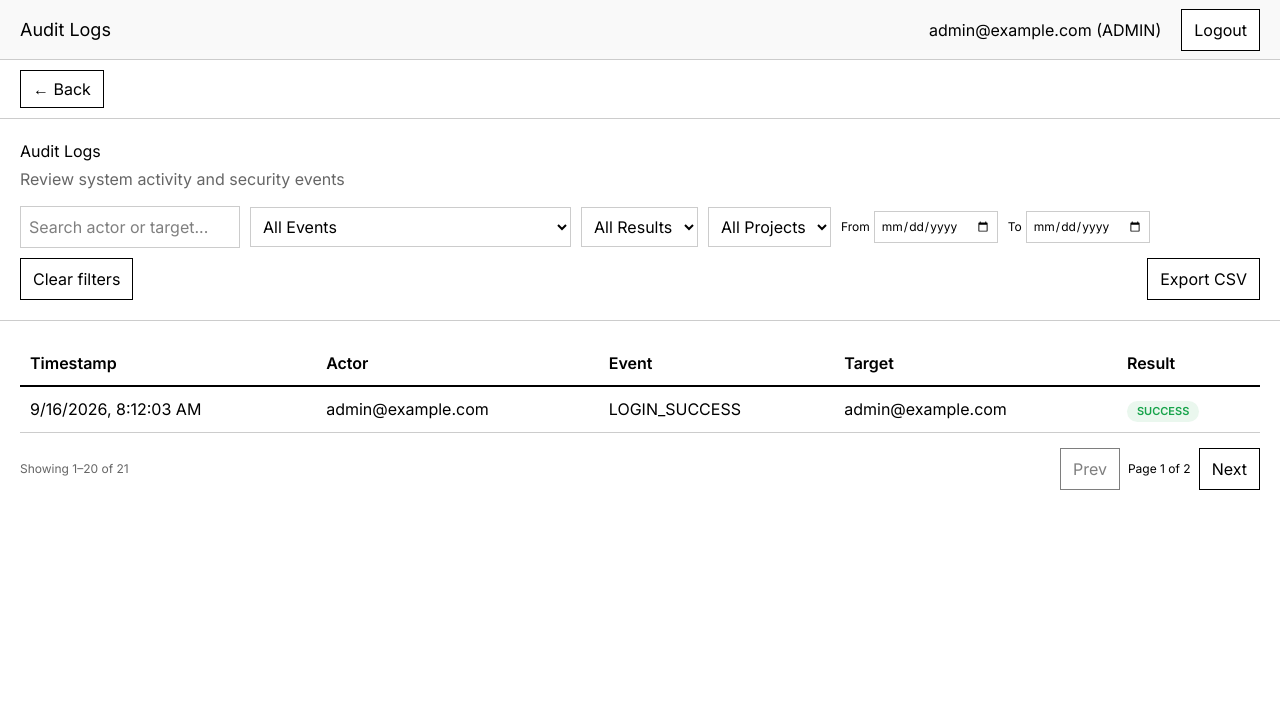
AuditLogScreen › paginates results via Prev/Next wired to real page/totalPages
Expected: the text "Showing 1–20 of 21" is shown, [20, 460, 129, 478]
Click the button "Next" at (1229, 468), box [1199, 448, 1260, 490]
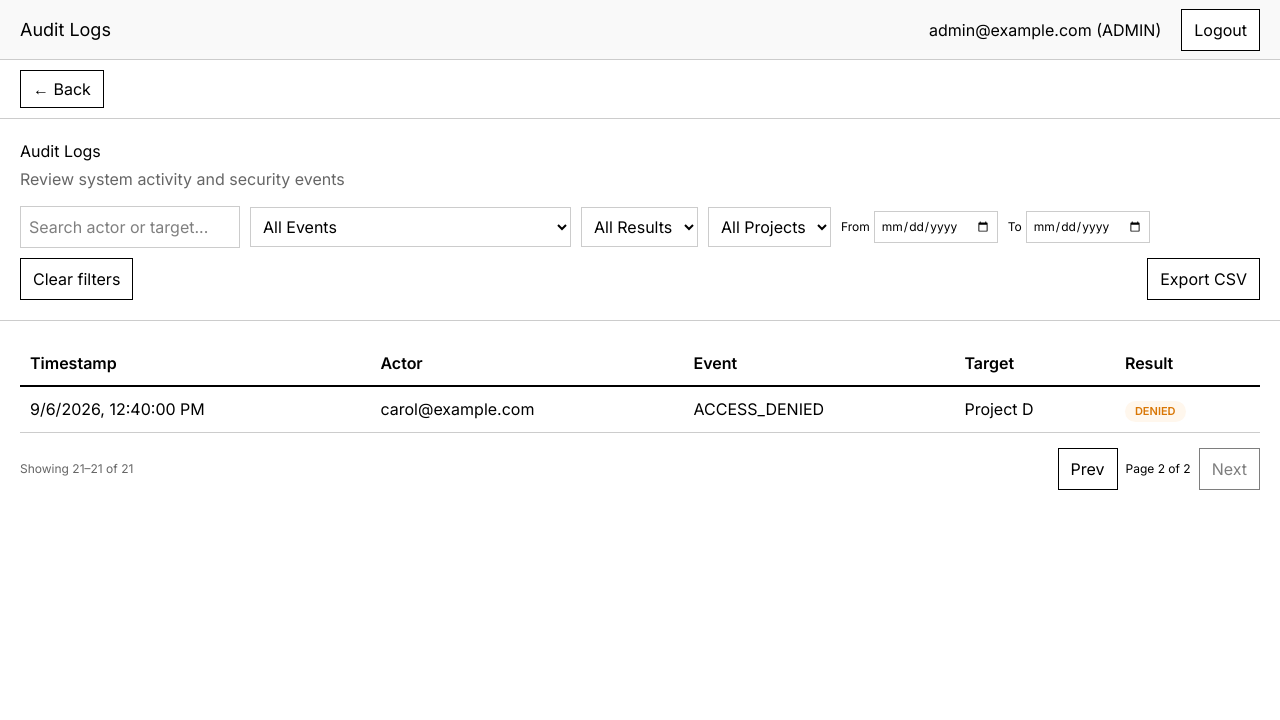
Result: the text "Showing 21–21 of 21" is shown at [20, 460, 133, 478]
